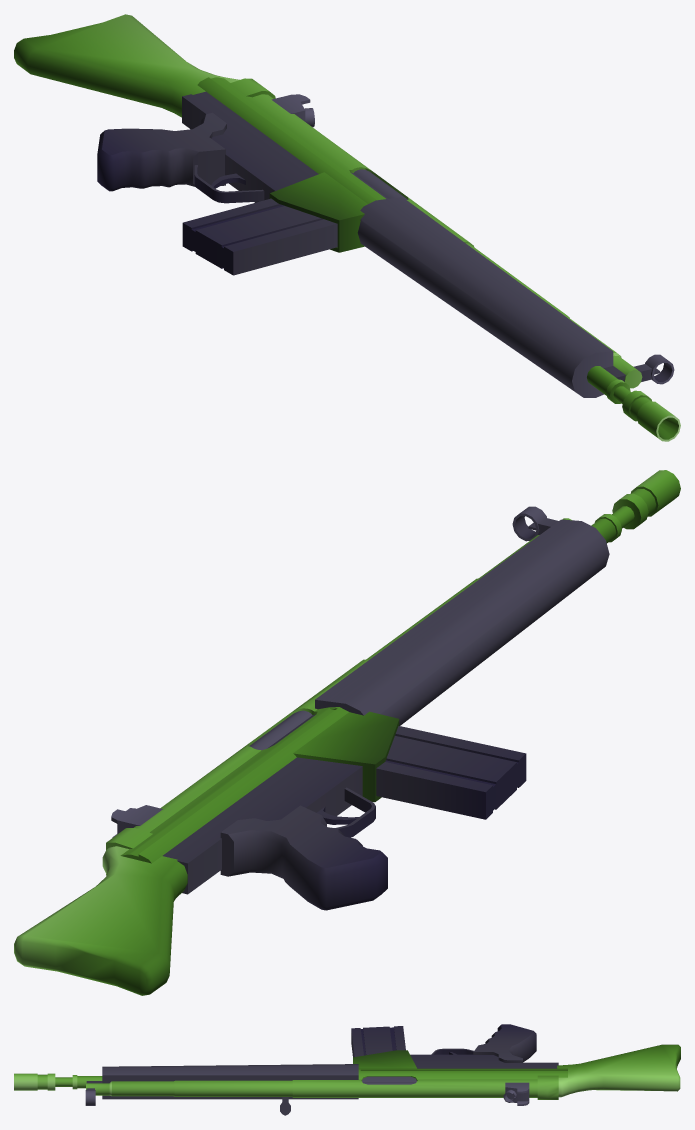
File: Rifle_LVL1.fbx
3 views of the same model, one above another, from view 1: azimuth 30°, elevation 25°; view 2: azimuth 150°, elevation 25°; view 3: azimuth 270°, elevation 25° (orthographic). The views are drawn at different scales.
Visible parts, largest first — view 1: Object009; view 2: Object009; view 3: Object009.
Boxes of the visible parts, x1=… form: Object009: x1=14, y1=14, x2=680, y2=441; Object009: x1=14, y1=470, x2=680, y2=995; Object009: x1=14, y1=1024, x2=680, y2=1115.
Size of the model in its own units: 31.8 by 7.96 by 131.
